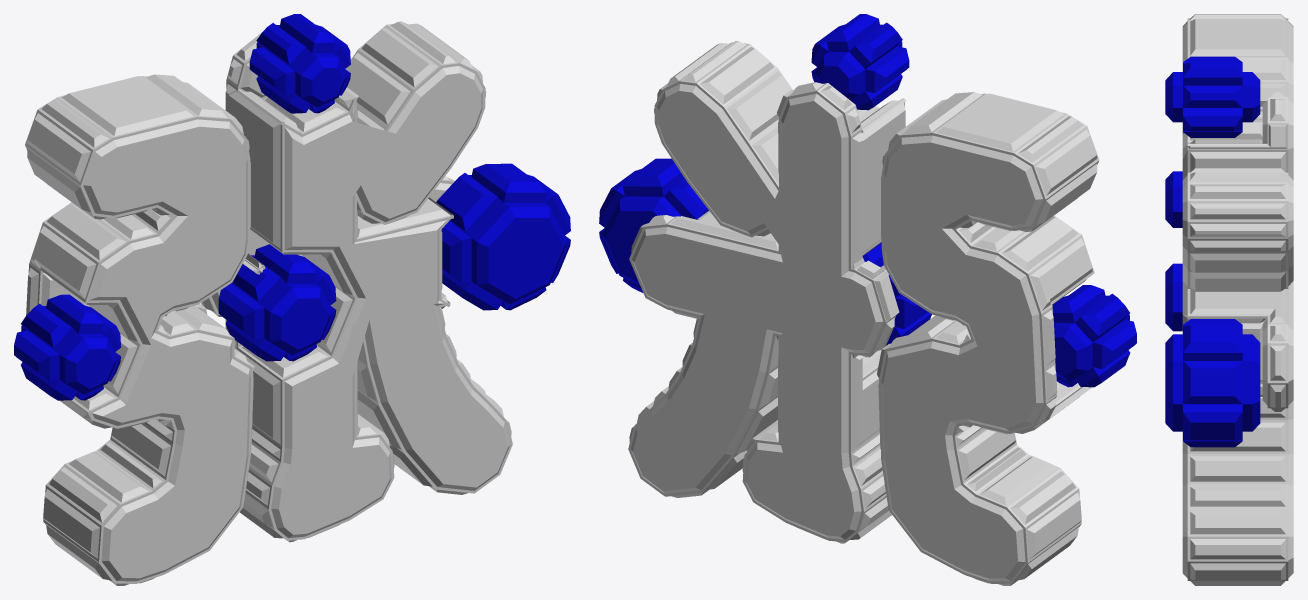
The model's file is Ch_China_张_01.fbx.
3 renders of one model, left to right at view 1: azimuth 30°, elevation 25°; view 2: azimuth 150°, elevation 25°; view 3: azimuth 270°, elevation 25°, orthographic. The views are drawn at different scales.
Parts seen in each view (by area): view 1: sphere1; view 2: sphere1; view 3: sphere1.
Part boxes in pixels (x1=…): sphere1: x1=14, y1=14, x2=570, y2=585; sphere1: x1=599, y1=14, x2=1136, y2=585; sphere1: x1=1165, y1=14, x2=1293, y2=585.
Size of the model in its own units: 1.1 by 1.01 by 0.2541.
